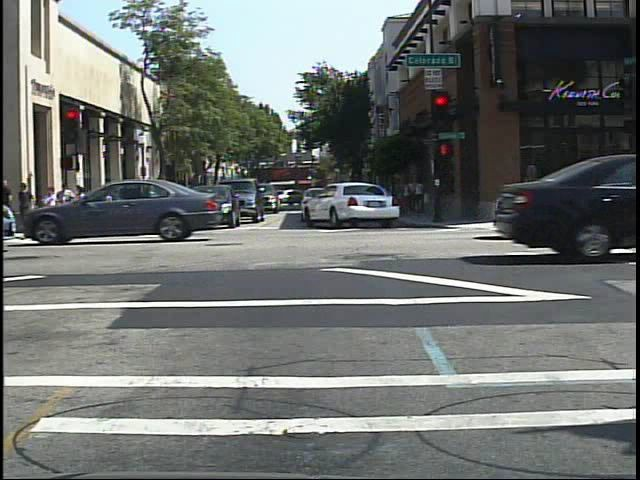person: (103, 186, 117, 226), (143, 181, 158, 213), (139, 181, 154, 212)
